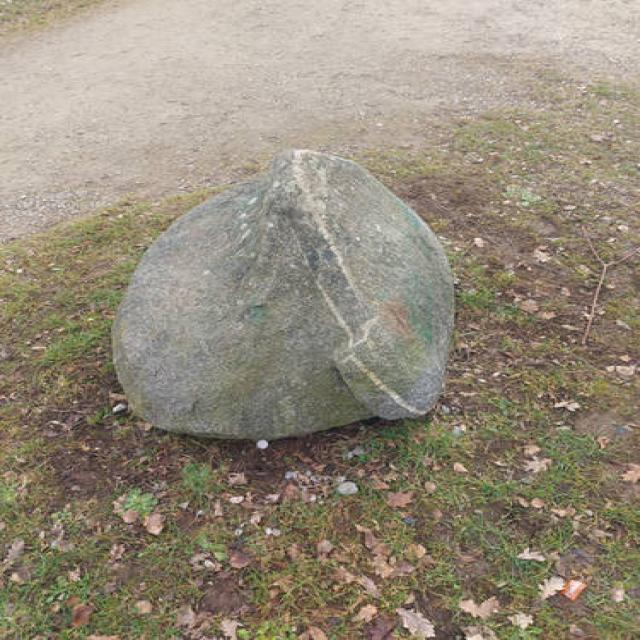stone: (114, 150, 452, 439)
white-sand: (2, 0, 638, 238)
